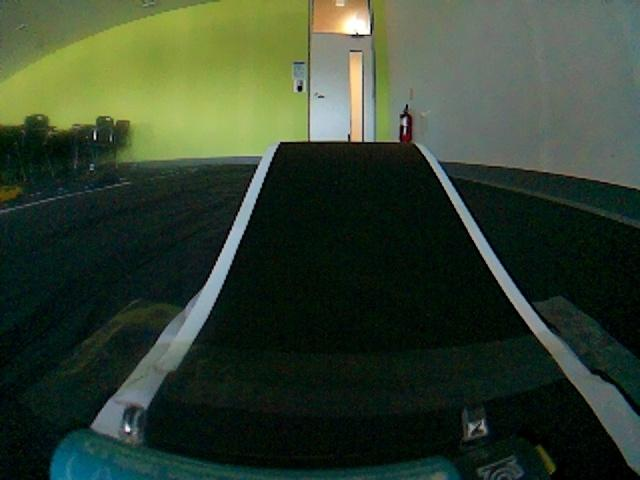hill_up: (90, 142, 640, 474)
